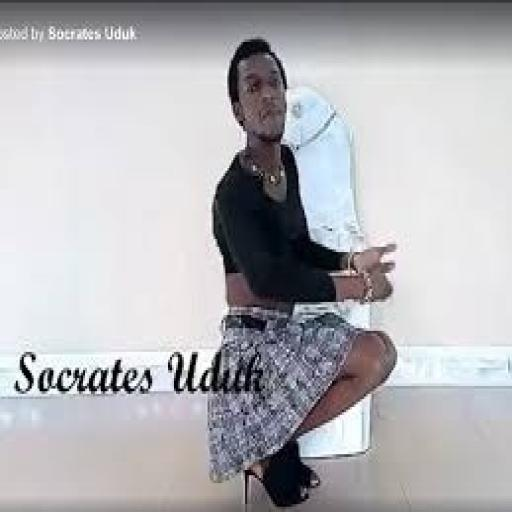dancing: (204, 34, 401, 510)
